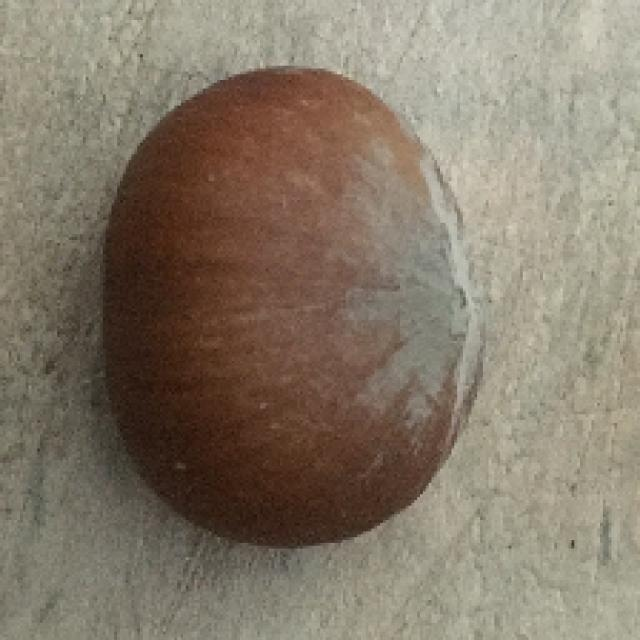qualityHazelnut: (92, 64, 488, 557)
